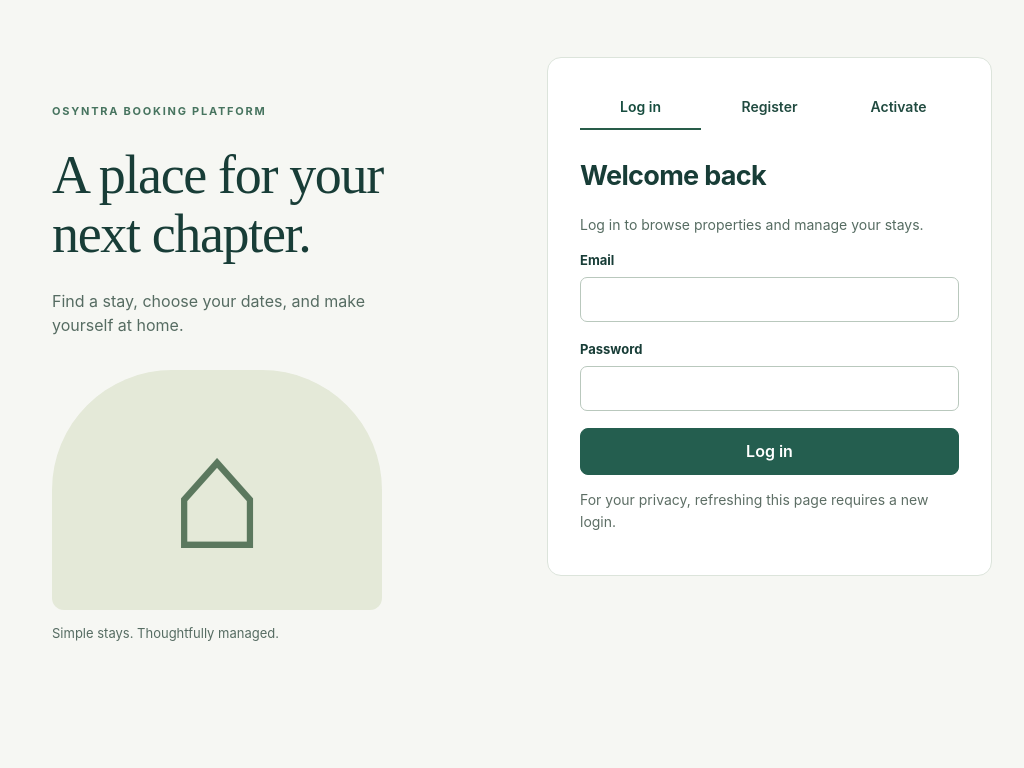
Test: uses the authenticated GUEST type without forbidden role probes
Type "a@example.com" into the field labelled "Email".
click(770, 300); type("a@example.com")  # box [580, 277, 959, 322]
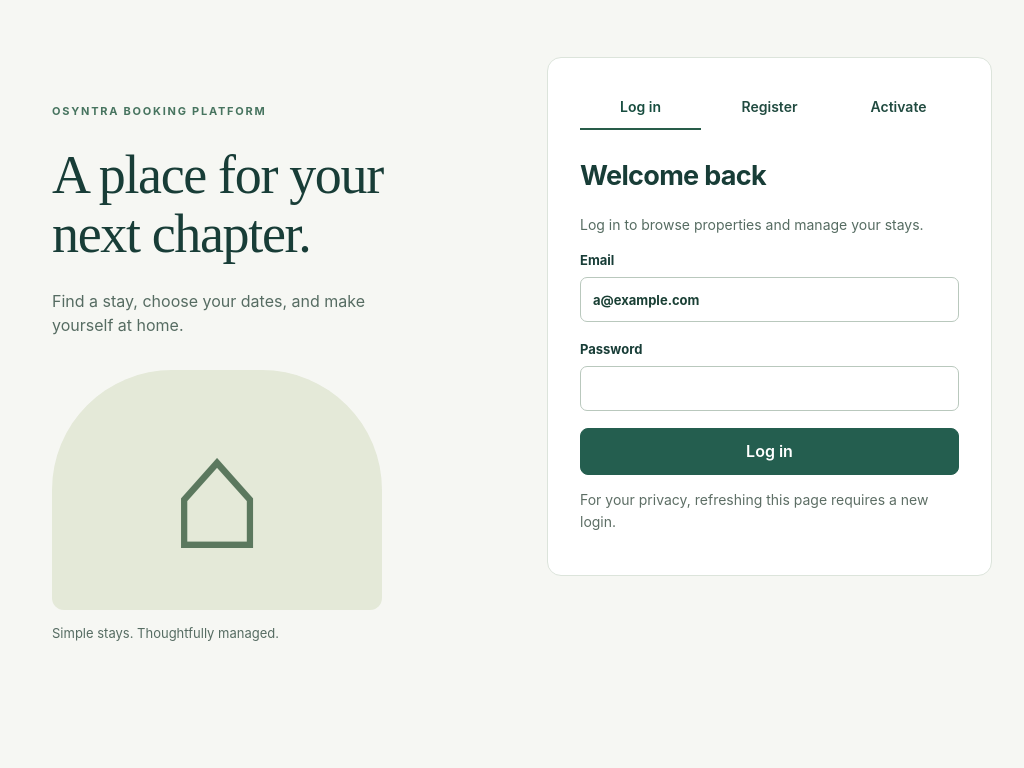
Type "ExamplePass1!" into the password field labelled "Password".
click(770, 389); type("ExamplePass1!")  # box [580, 366, 959, 412]
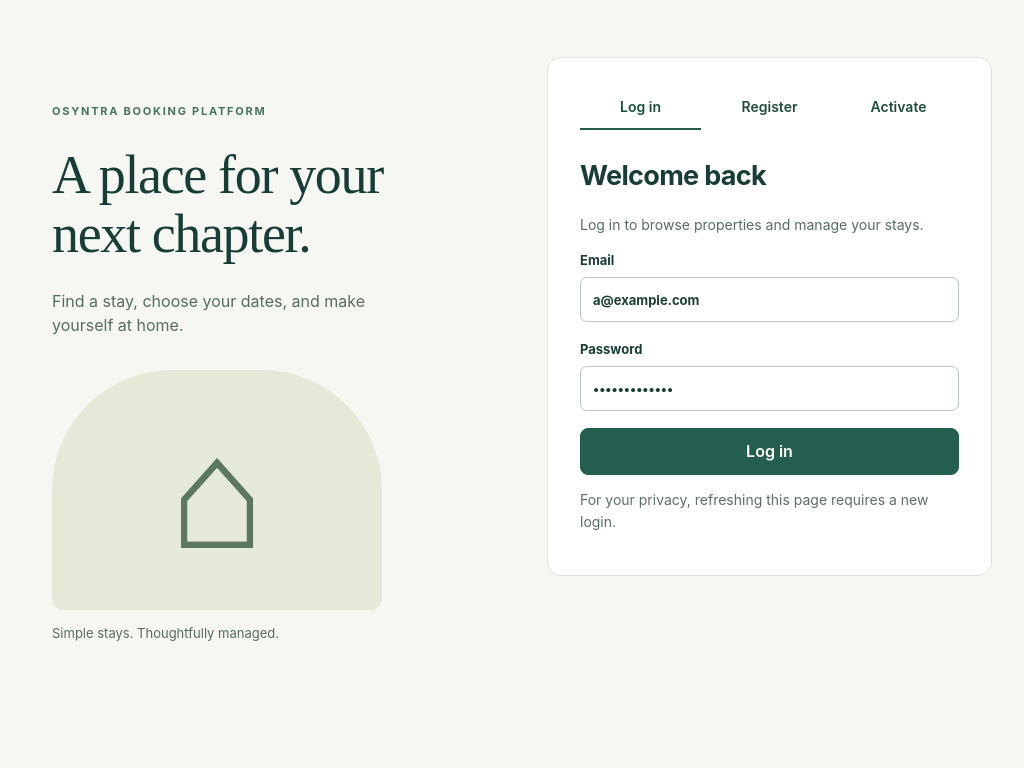
Click the button "Log in" below "Password".
click(770, 452)  # box [580, 428, 959, 475]
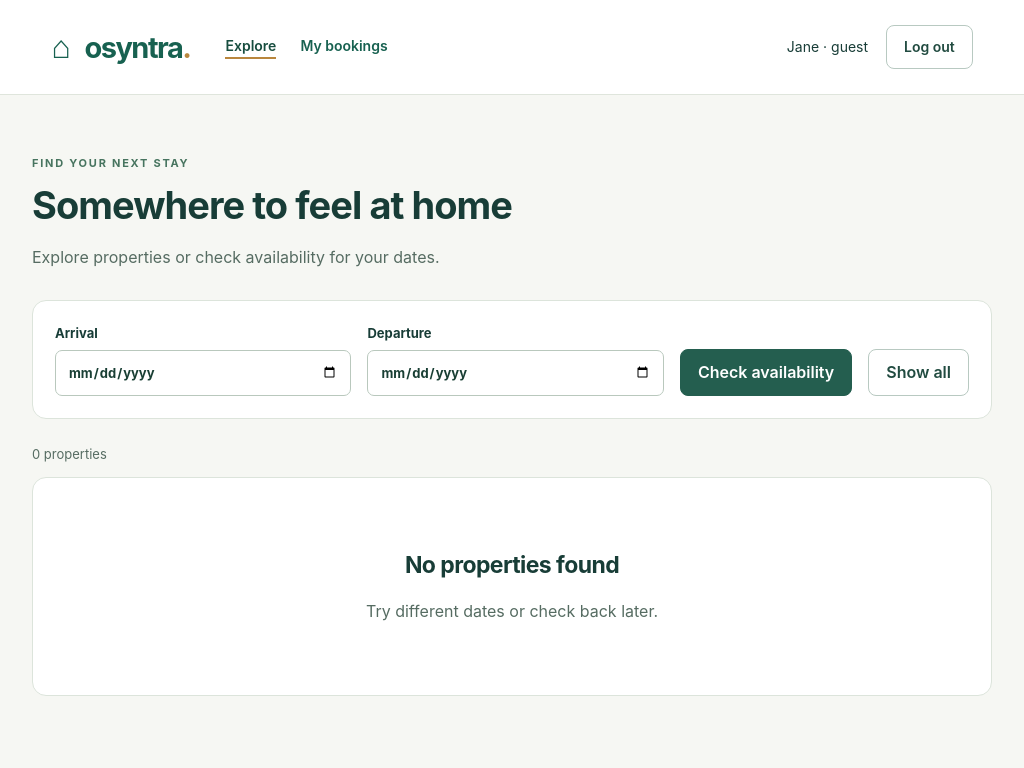
Expected: the button "Log out" is shown, [886, 25, 973, 69]
Expected: the link "My bookings" is shown, [300, 35, 388, 59]
